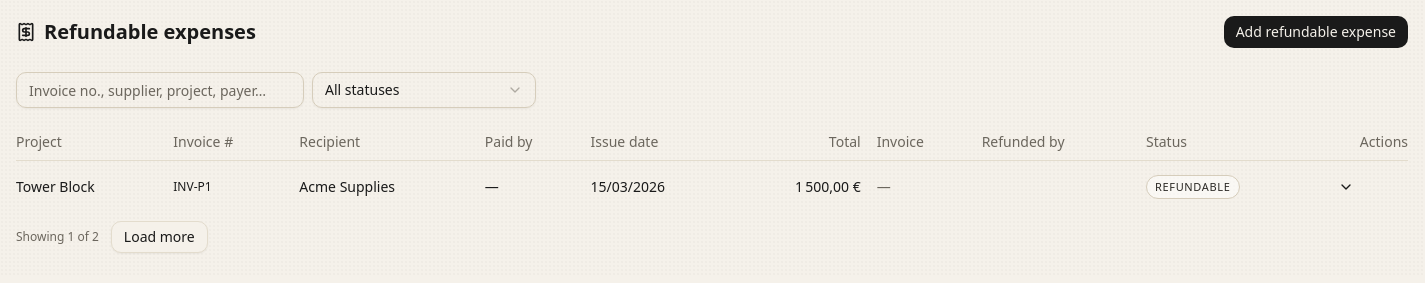
Test: RefundableInvoicesPage — more than one page › loads the next page after the loaded rows
Expected: the text "INV-P1" is shown, [173, 160, 299, 213]
Expected: the text "Showing 1 of 2" is shown, [16, 229, 99, 245]
Click the button "Load more": (159, 237) [111, 221, 208, 253]
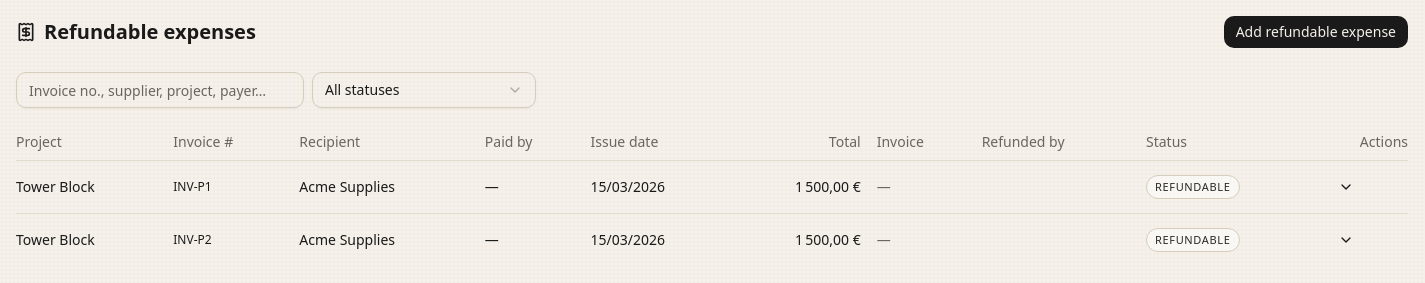
Expected: the text "INV-P1" is shown, [173, 160, 299, 214]
Expected: the text "INV-P2" is shown, [173, 214, 299, 266]
Expected: the text "Showing 1 of 2" is gone
